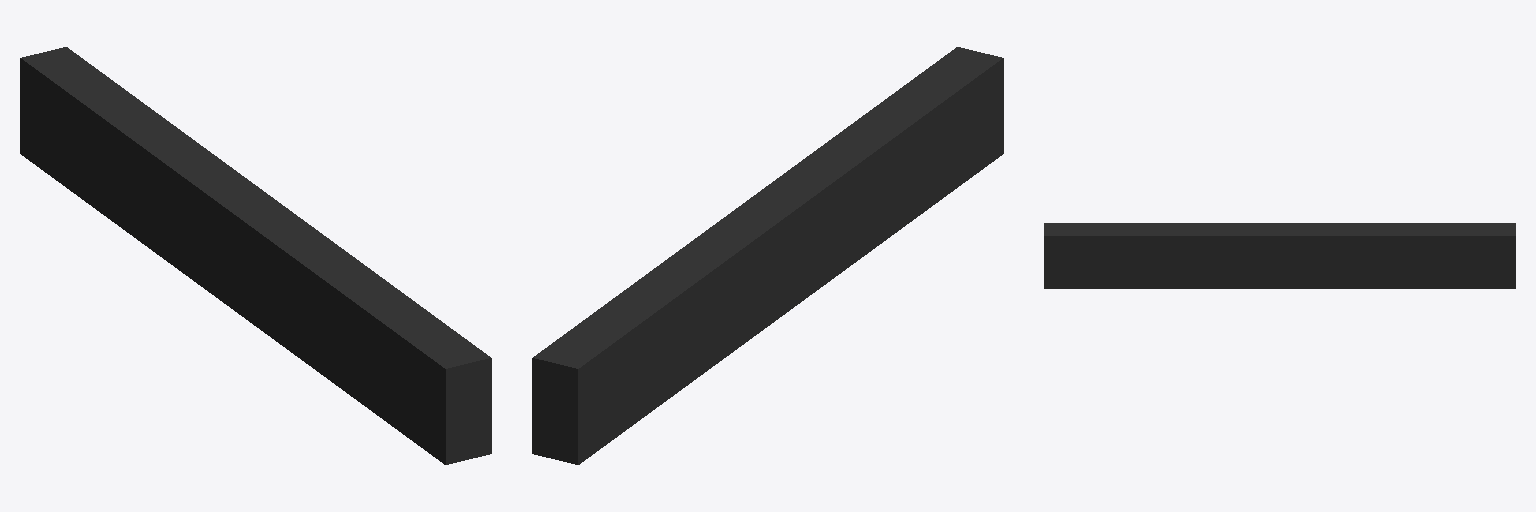
The robot description file, URDF, robot "wall":
<robot name="wall">
  <link name="baseLink">
   
    <inertial>
      <origin rpy="0 0 0" xyz="0 0 0" />
       <mass value="1000.0" />
       <inertia ixx="0" ixy="0" ixz="0" iyy="0" iyz="0" izz="0" />
    </inertial>
    <visual>
      <origin rpy="0 0 0" xyz="0 0 0" />
      <geometry>
			  <box size="1 16 2" />
      </geometry>
       <material name="grey">
        <color rgba="0.24 0.24 0.24 1" />
      </material>
    </visual>
    <collision>
      <origin rpy="0 0 0" xyz="0 0 0" />
      <geometry>
	 	      <box size="1 16 2" />
      </geometry>
    </collision>
  </link>
</robot>

--- Facts derived from the render (not from the file) ---
3 views of the same robot in one strip: view 1: azimuth 30°, elevation 25°; view 2: azimuth 150°, elevation 25°; view 3: azimuth 270°, elevation 25° (orthographic).
Model wall with 1 links and 0 joints (none), rooted at baseLink, posed every joint at zero.
Links seen in each view (by area): view 1: baseLink; view 2: baseLink; view 3: baseLink.
Link boxes in pixels (x1=…): baseLink: x1=20, y1=47, x2=491, y2=464; baseLink: x1=532, y1=47, x2=1003, y2=464; baseLink: x1=1044, y1=223, x2=1515, y2=288.
Size in the robot's own frame: 1 by 16 by 2 metres.
Geometry: primitives only (box / cylinder / sphere), no mesh files.